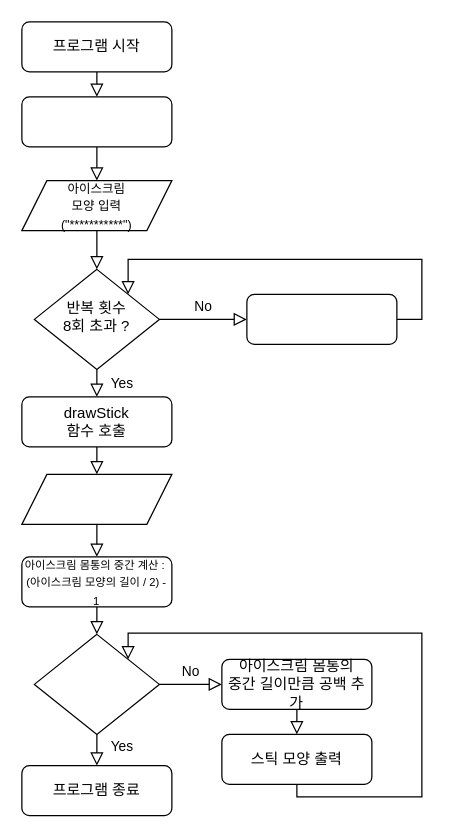
Some shapes in this 456 by 838 pixel diagram are drawn without their labels. Here are the shapes that lost their labels. From the top down, the box of each, then its label:
(21, 96, 172, 147): drawIceCream 함수 호출
(246, 293, 397, 344): 아이스크림 모양 출력
(21, 473, 172, 524): 아이스크림 모양과 스틱의 길이 입력
(33, 633, 159, 734): 반복횟수 스틱의 길이 초과?
